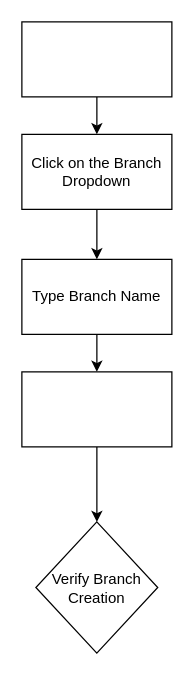
Image size: 194x675. Some labels were removed from this diagram. Here are the shapes that lost their labels. From the top down, the centre of each, then its label:
the point at 96,59: Navigate to Repository
the point at 96,409: Click "Create Branch"
